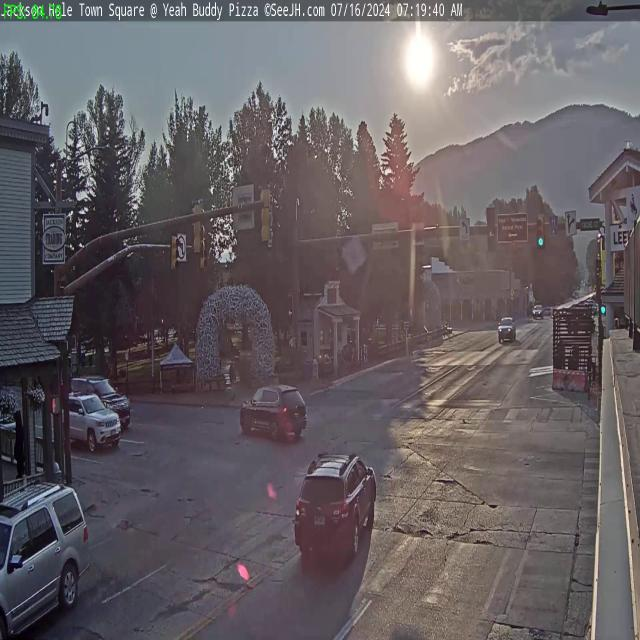suv: (0, 475, 91, 638), (292, 448, 380, 572), (238, 381, 307, 446), (63, 395, 121, 457), (70, 372, 130, 425), (497, 313, 517, 342)
traffic light: (190, 198, 204, 255), (260, 184, 273, 245), (487, 207, 496, 252), (171, 235, 179, 279), (536, 214, 546, 248)
